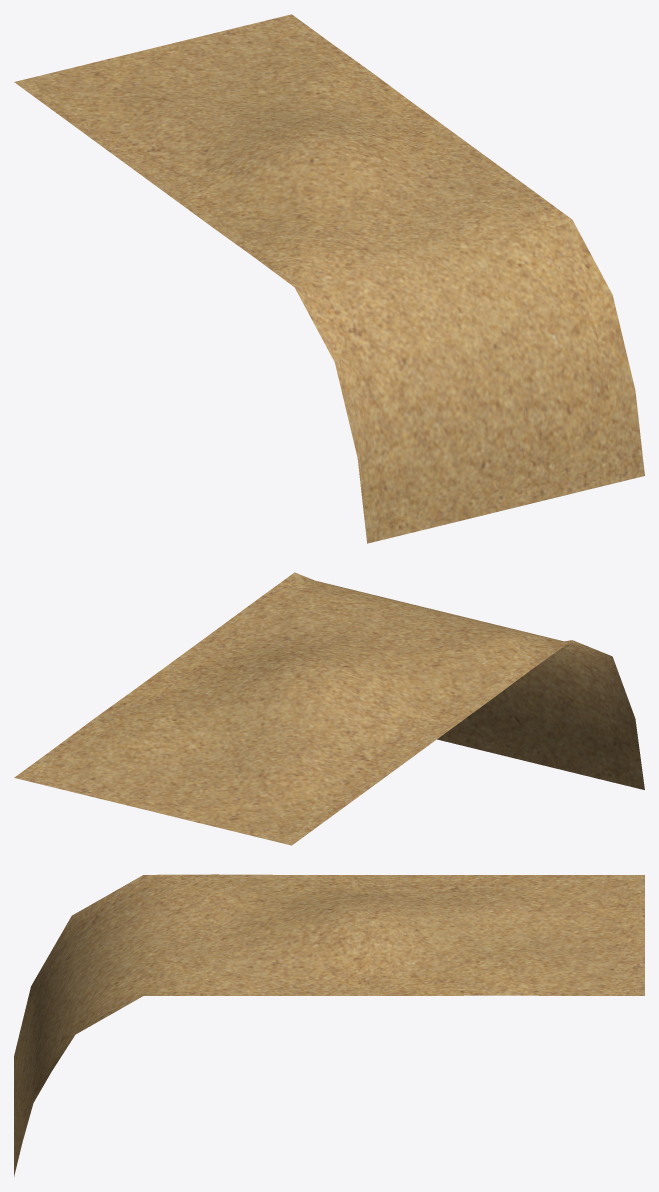
The model's file is frontPath3.obj.
3 renders of one model, top to bottom at view 1: azimuth 30°, elevation 25°; view 2: azimuth 150°, elevation 25°; view 3: azimuth 270°, elevation 25°, orthographic. The views are drawn at different scales.
Parts seen in each view (by area): view 1: pPlane3; view 2: pPlane3; view 3: pPlane3.
Boxes of the visible parts, x1=… form: pPlane3: x1=14, y1=14, x2=644, y2=543; pPlane3: x1=14, y1=572, x2=644, y2=845; pPlane3: x1=14, y1=874, x2=644, y2=1176.
Bounding box in the file's own units: 6 × 4.71 × 13.21.
Materials: 1 (1 with a texture image).
